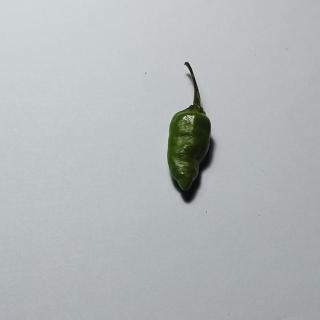Cabai Hijau: (162, 56, 220, 207)
